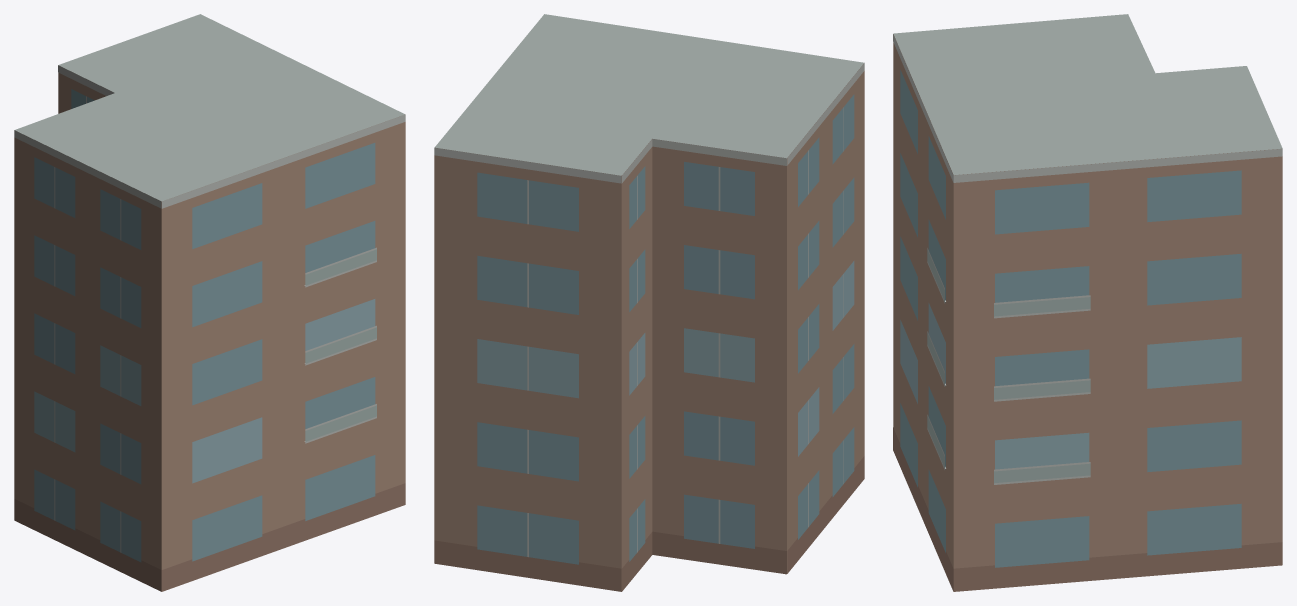
File: survey-upis-32919640.glb
3 views of the same model, side by side, from view 1: azimuth 30°, elevation 25°; view 2: azimuth 150°, elevation 25°; view 3: azimuth 270°, elevation 25° (orthographic). The views are drawn at different scales.
Parts seen in each view (by area): view 1: survey-upis-32919640.tmp; view 2: survey-upis-32919640.tmp; view 3: survey-upis-32919640.tmp.
Boxes of the visible parts, bbox=[...] form: survey-upis-32919640.tmp: bbox=[14, 14, 405, 591]; survey-upis-32919640.tmp: bbox=[434, 14, 864, 591]; survey-upis-32919640.tmp: bbox=[893, 14, 1282, 591].
Bounding box in the file's own units: 10.79 × 13 × 11.03.
